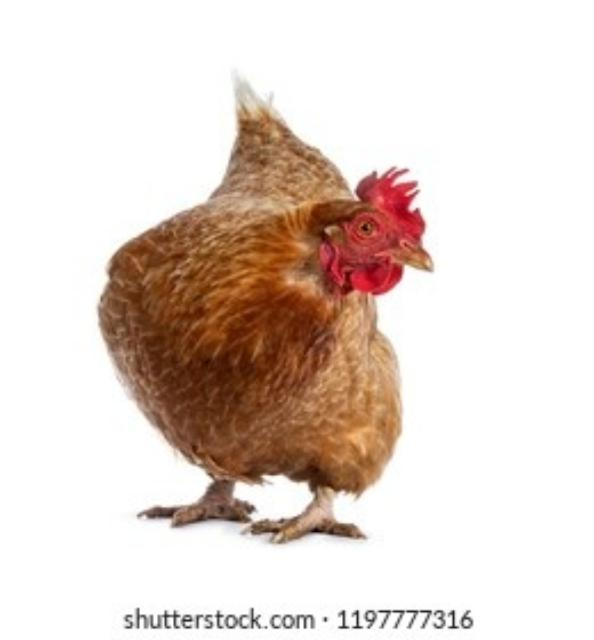Chicken: (98, 65, 436, 544)
